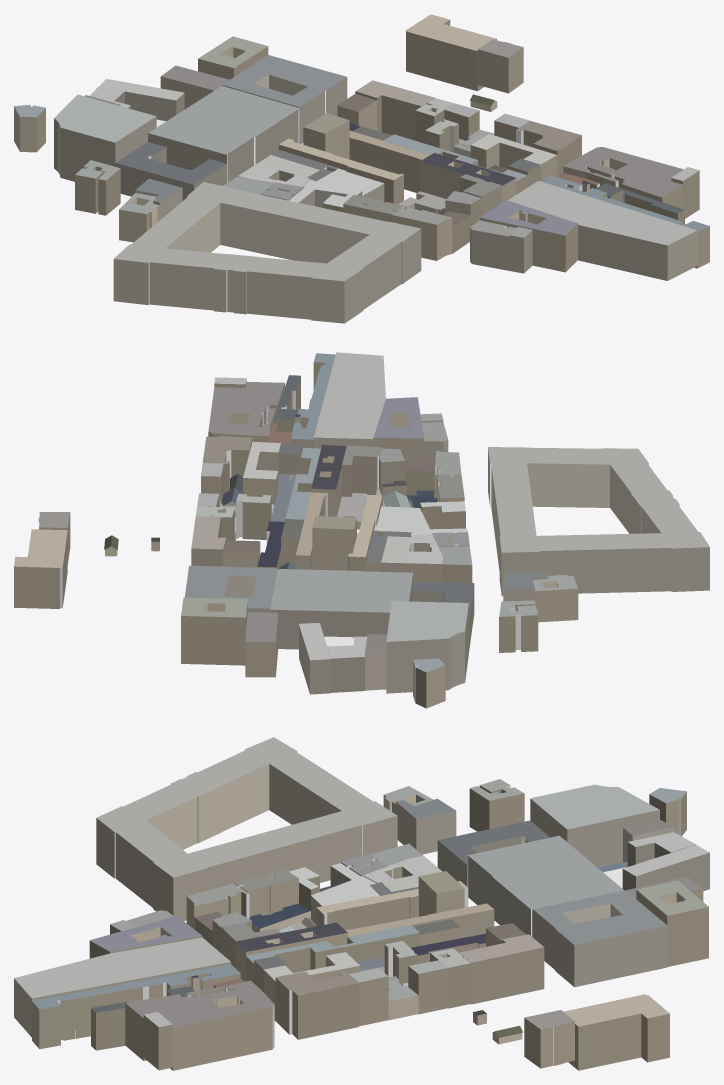
The picture shows the model from 3 angles, top to bottom: view 1: azimuth 30°, elevation 25°; view 2: azimuth 150°, elevation 25°; view 3: azimuth 270°, elevation 25°; orthographic projection. The views are drawn at different scales.
Parts seen in each view (by area): view 1: tuile; view 2: tuile; view 3: tuile.
Boxes of the visible parts, bbox=[...] form: tuile: bbox=[14, 14, 709, 323]; tuile: bbox=[14, 352, 709, 708]; tuile: bbox=[14, 737, 709, 1070].
Bounding box in the file's own units: 301 × 31.52 × 308.
